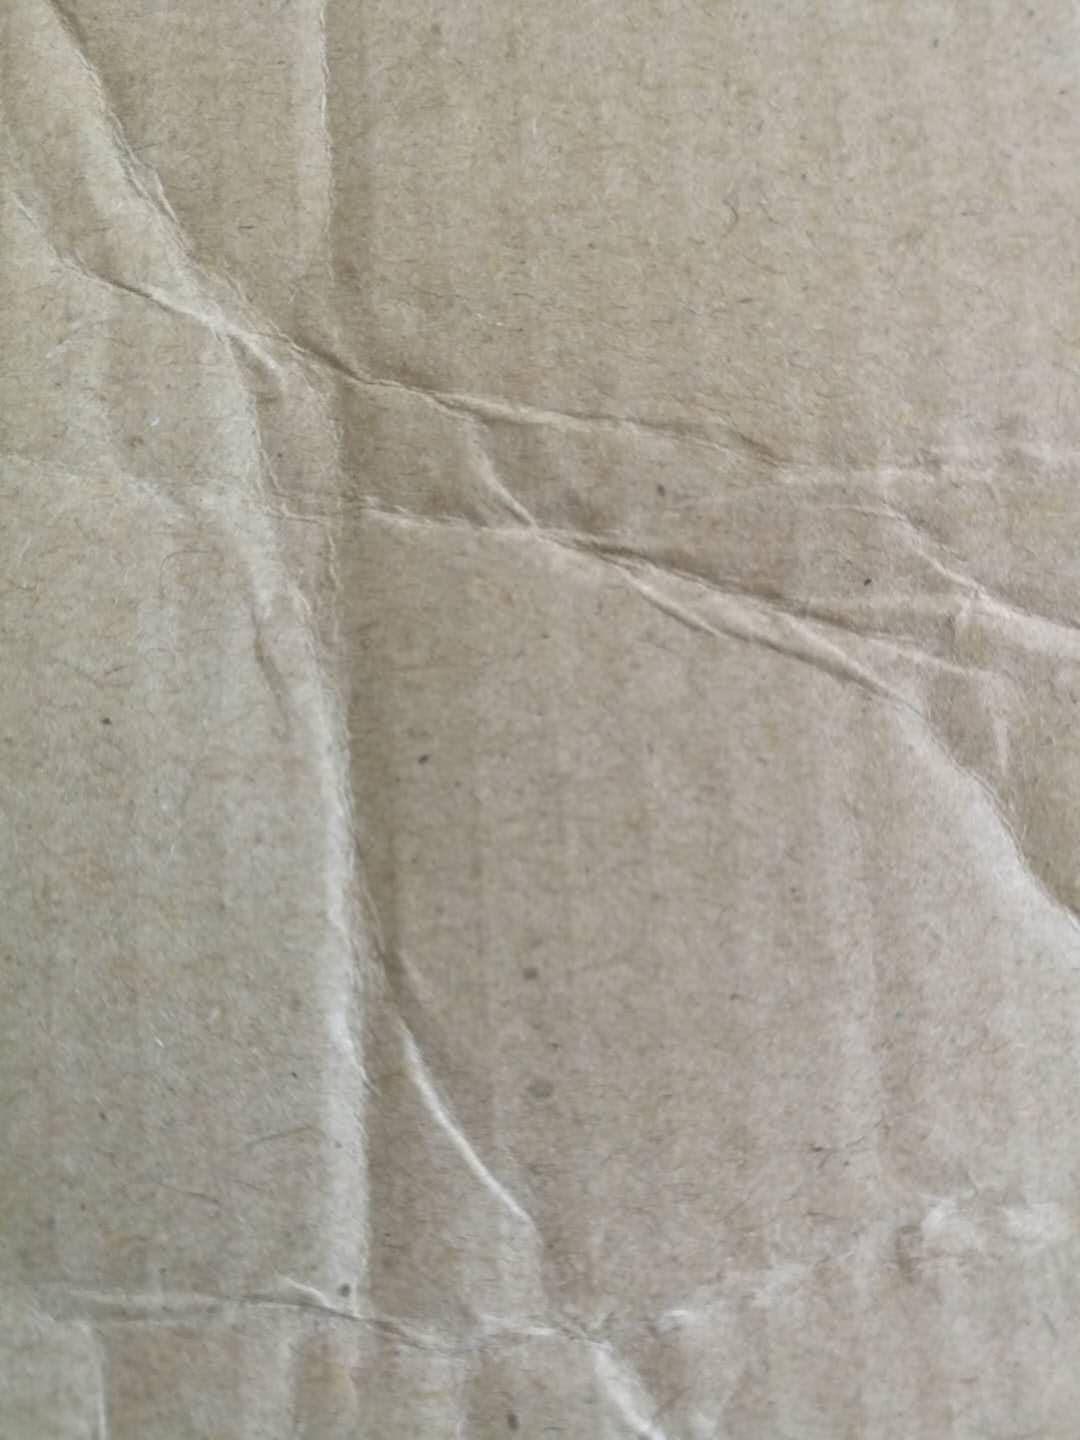defect: (3, 7, 1080, 925), (234, 2, 526, 1439), (1, 1124, 1080, 1439)
